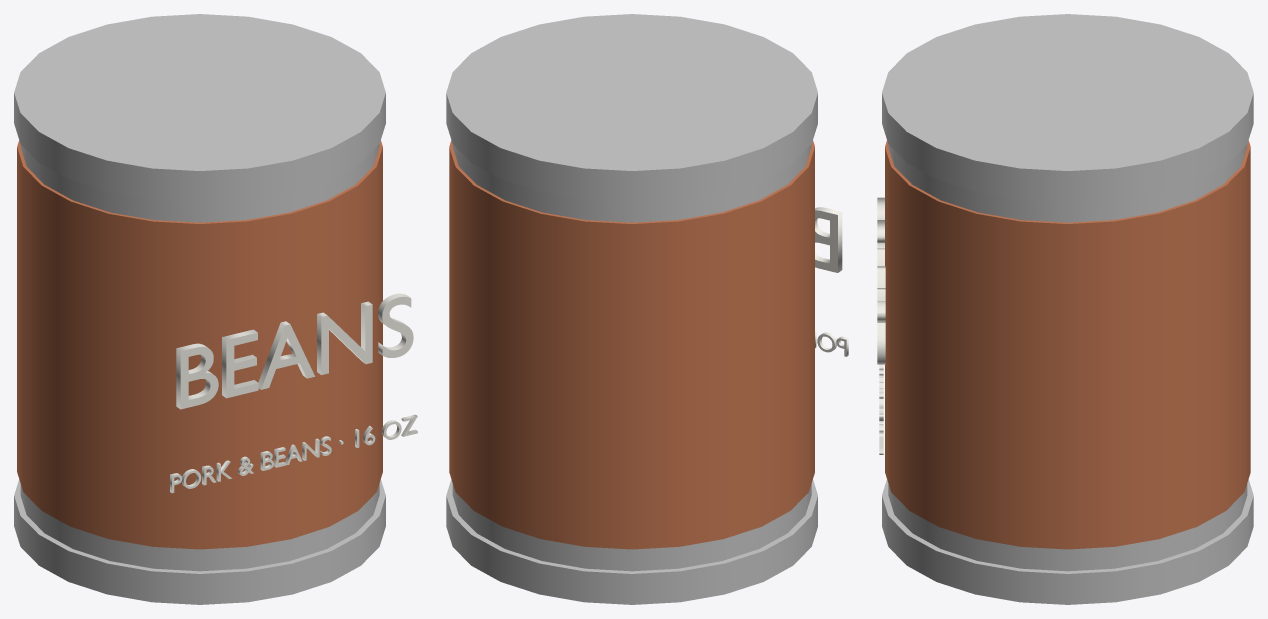
Rendered from prop_food_tin.glb.
3 views of the same model, side by side, from view 1: azimuth 30°, elevation 25°; view 2: azimuth 150°, elevation 25°; view 3: azimuth 270°, elevation 25° (orthographic).
Visible parts, largest first — view 1: FL_prop_food_tin_label, FL_prop_food_tin_alu, FL_txt_BEANS, FL_txt_PORK & B; view 2: FL_prop_food_tin_label, FL_prop_food_tin_alu, FL_txt_BEANS; view 3: FL_prop_food_tin_label, FL_prop_food_tin_alu, FL_txt_BEANS.
Part boxes in pixels (bbox=[...]): FL_prop_food_tin_label: bbox=[17, 140, 382, 549]; FL_prop_food_tin_alu: bbox=[14, 14, 385, 604]; FL_txt_BEANS: bbox=[176, 293, 413, 409]; FL_txt_PORK & B: bbox=[170, 414, 417, 493]; FL_prop_food_tin_label: bbox=[449, 140, 814, 549]; FL_prop_food_tin_alu: bbox=[446, 14, 817, 604]; FL_txt_BEANS: bbox=[815, 207, 842, 272]; FL_prop_food_tin_label: bbox=[885, 140, 1250, 549]; FL_prop_food_tin_alu: bbox=[882, 14, 1253, 604]; FL_txt_BEANS: bbox=[877, 197, 885, 364].
Size of the model in its own units: 0.087 by 0.112 by 0.0881.
